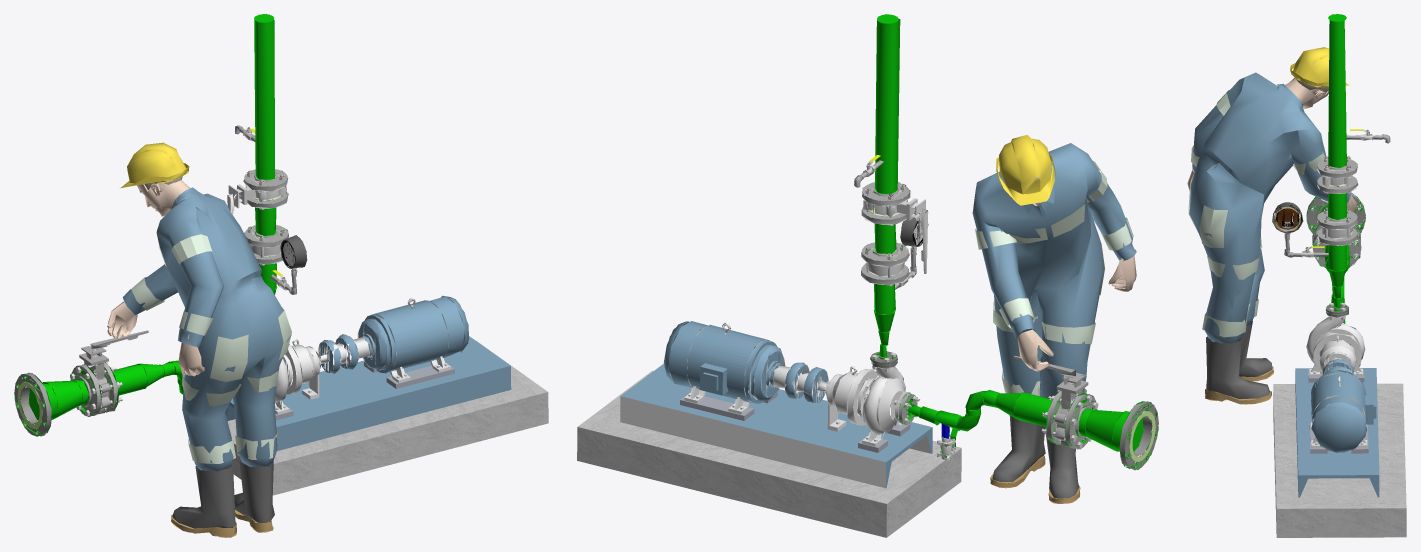
Rendered from pump.glb.
The picture shows the model from 3 angles, left to right: view 1: azimuth 30°, elevation 25°; view 2: azimuth 150°, elevation 25°; view 3: azimuth 270°, elevation 25°; orthographic projection. The views are drawn at different scales.
Parts seen in each view (by area): view 1: Material2.001; view 2: Material2.001; view 3: Material2.001.
Boxes of the visible parts, x1,y1,x2,y2 form: Material2.001: (14, 14, 548, 537); Material2.001: (577, 14, 1158, 537); Material2.001: (1187, 14, 1406, 537).
Size of the model in its own units: 2.42 by 2.12 by 1.02.
31 materials, 3 textured.
